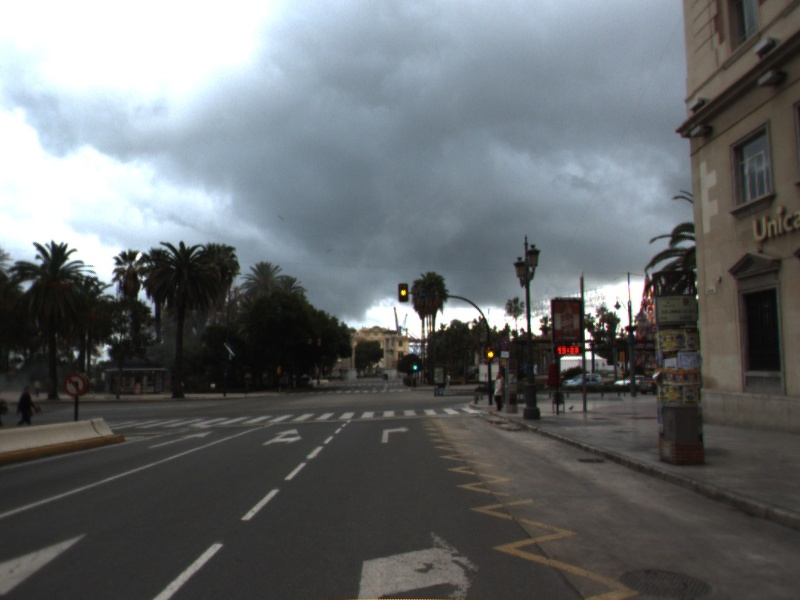RIGHT: (354, 526, 487, 600), (378, 424, 413, 445)
STRAIGHT: (145, 429, 216, 451)
STRAIGHT_RIGHT: (258, 426, 305, 448)
